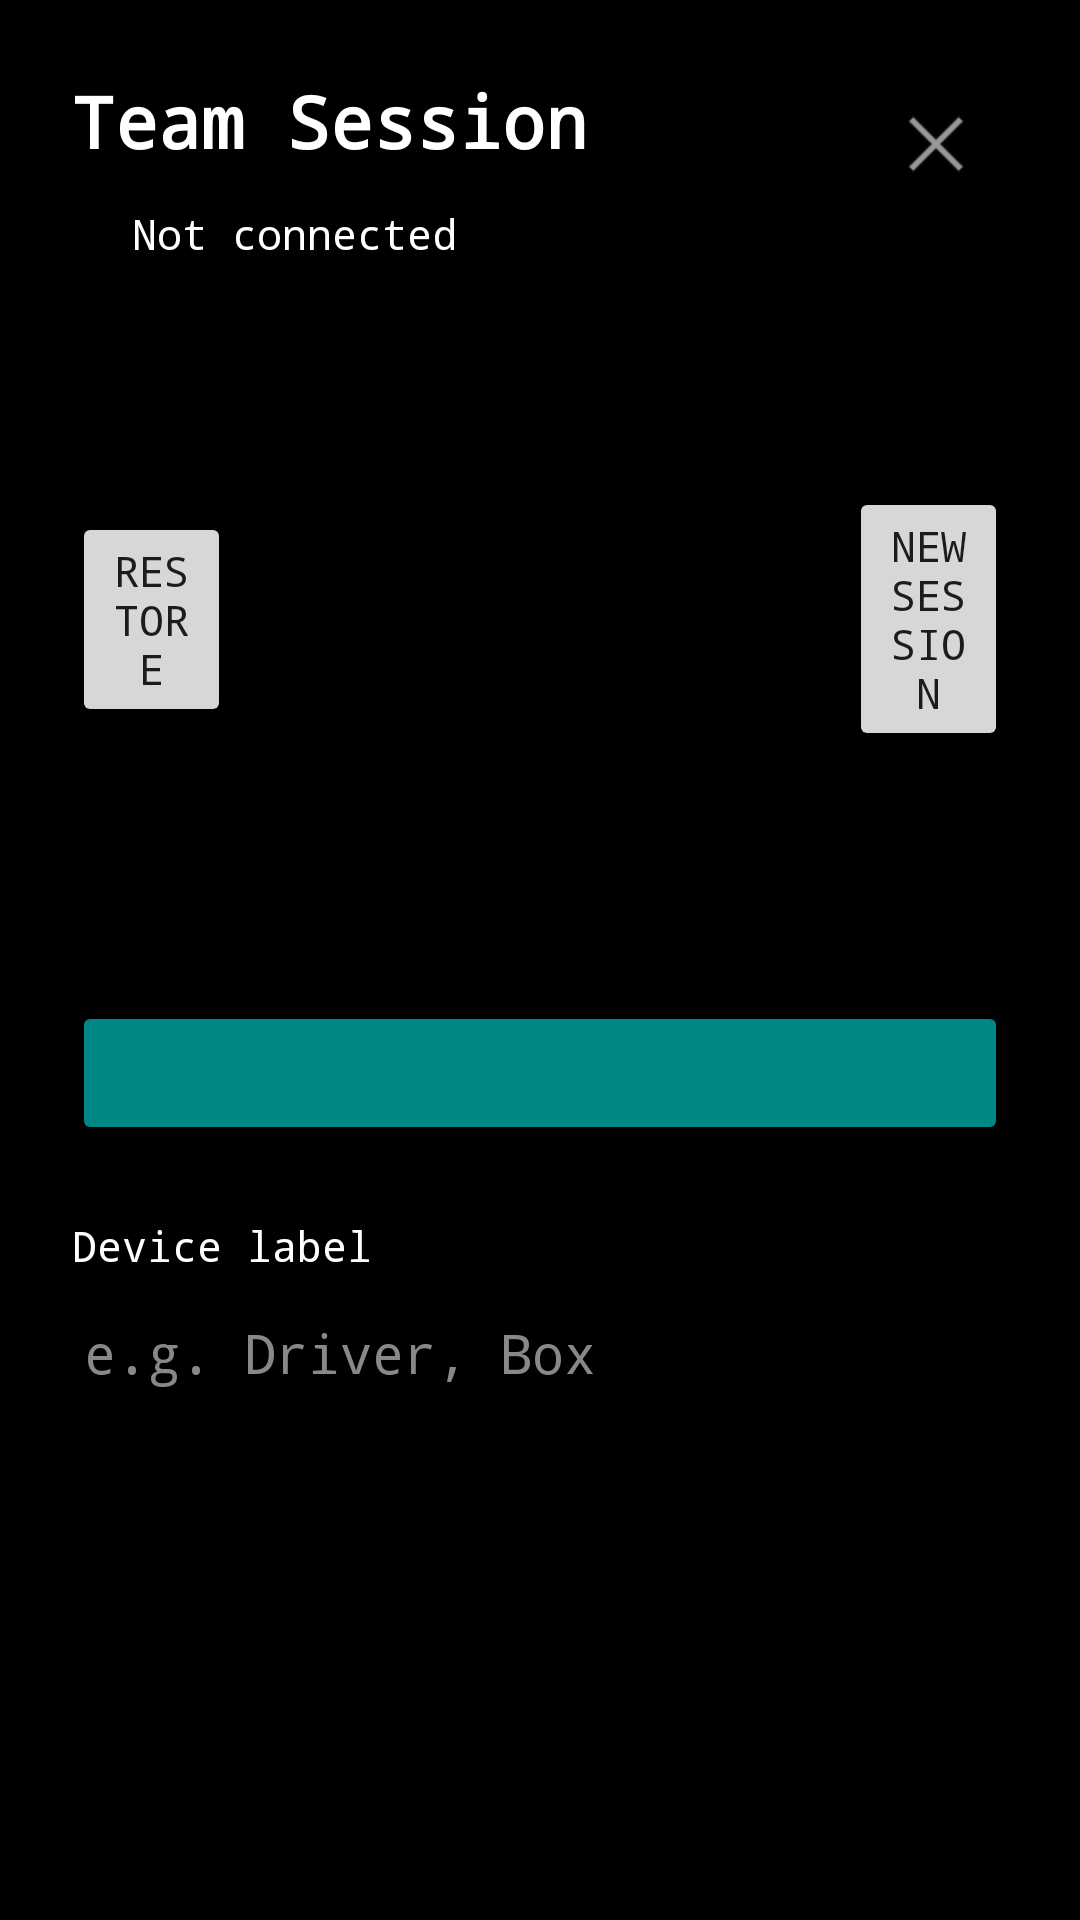

Where to tap for icons on this 1080 × 1920 app screen, as (x,y):
Close: (936,144)
